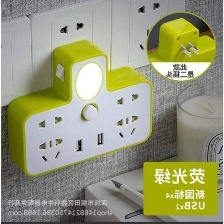three_eye_plug: (4, 31, 159, 179), (26, 0, 115, 111), (105, 0, 183, 80), (144, 14, 218, 85), (0, 14, 35, 111)
